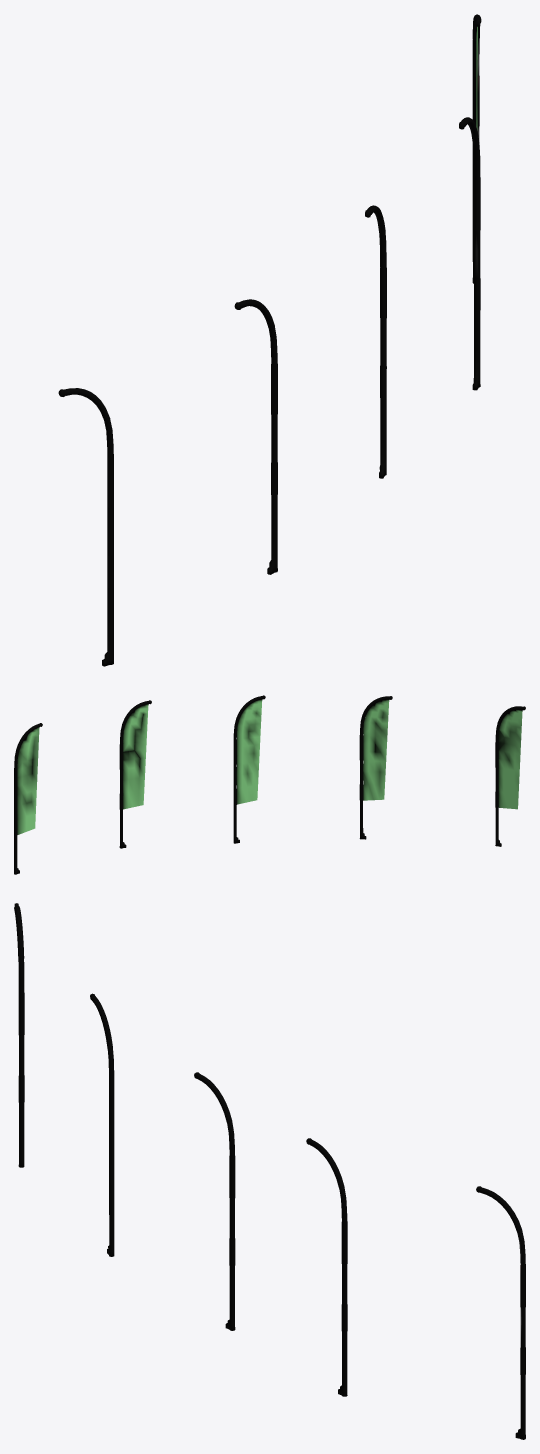
File: Park_BannerFlag_CMB.gltf
3 views of the same model, one above another, from view 1: azimuth 30°, elevation 25°; view 2: azimuth 150°, elevation 25°; view 3: azimuth 270°, elevation 25° (orthographic). The views are drawn at different scales.
Parts seen in each view (by area): view 1: Park_BannerFlag_CMB; view 2: Park_BannerFlag_CMB; view 3: Park_BannerFlag_CMB.
Boxes of the visible parts, left/top/right/bottom form: Park_BannerFlag_CMB: left=58, top=14, right=481, bottom=666; Park_BannerFlag_CMB: left=14, top=695, right=525, bottom=874; Park_BannerFlag_CMB: left=14, top=903, right=525, bottom=1439.
Bounding box in the file's own units: 20.56 × 7.87 × 15.05.
